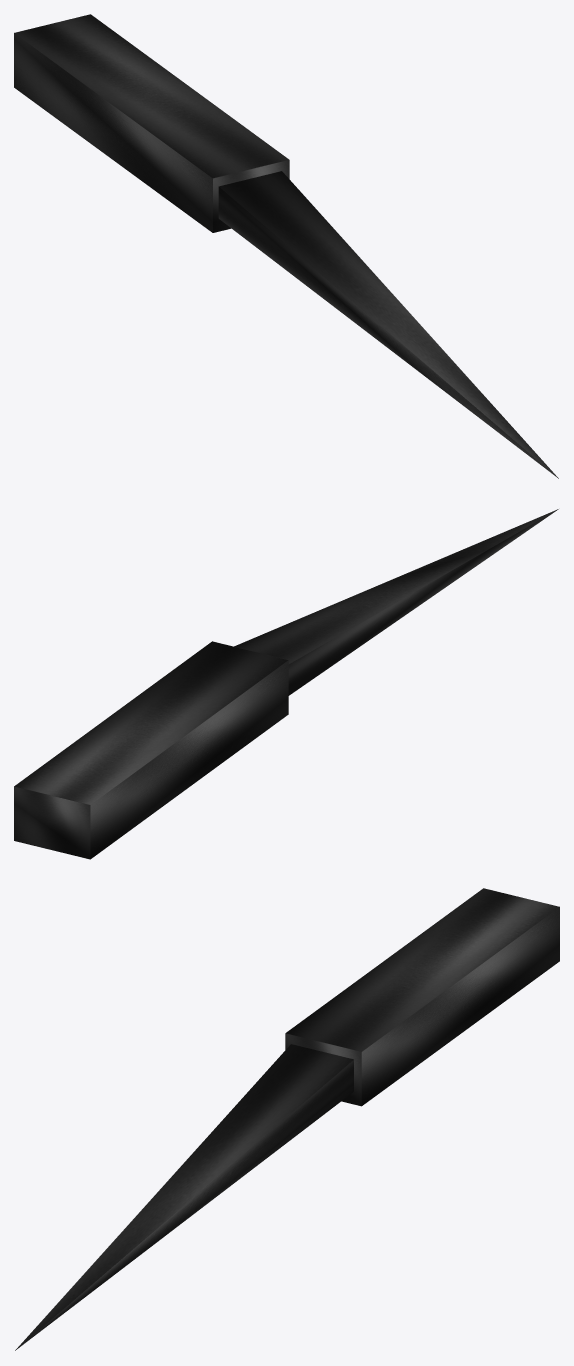
Rendered from ShankText.obj.
3 views of the same model, one above another, from view 1: azimuth 30°, elevation 25°; view 2: azimuth 150°, elevation 25°; view 3: azimuth 330°, elevation 25° (orthographic).
Visible parts, largest first — view 1: Box001, Pyramid001; view 2: Box001, Pyramid001; view 3: Box001, Pyramid001.
Boxes of the visible parts, <box> form: Box001: <box>14,14,289,232</box>; Pyramid001: <box>218,171,558,478</box>; Box001: <box>14,641,288,859</box>; Pyramid001: <box>234,509,558,695</box>; Box001: <box>285,888,559,1106</box>; Pyramid001: <box>15,1044,353,1350</box>.
Bounding box in the file's own units: 0.7661 × 0.7988 × 8.8.
Materials: 1 (1 with a texture image).
